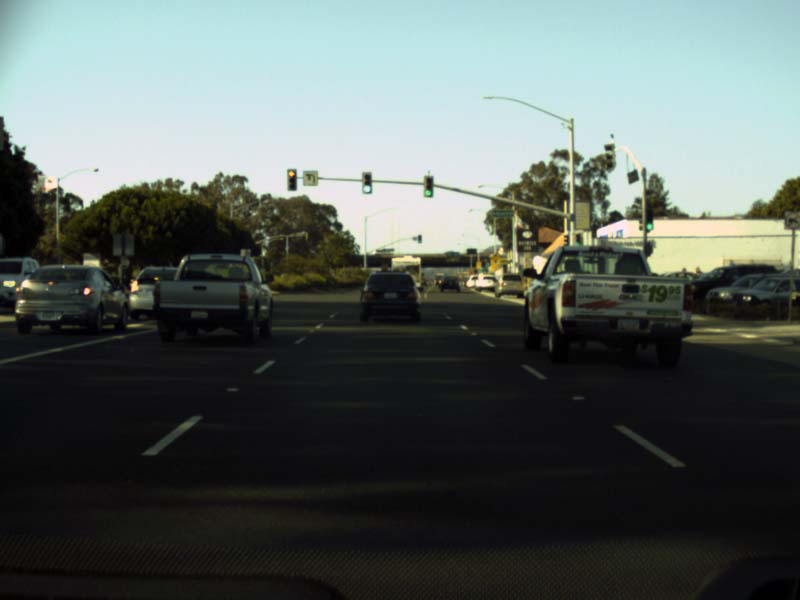Green: (361, 171, 371, 193), (423, 175, 433, 197), (646, 209, 653, 230), (574, 234, 579, 246), (417, 235, 421, 242)
Red: (286, 168, 296, 191)
